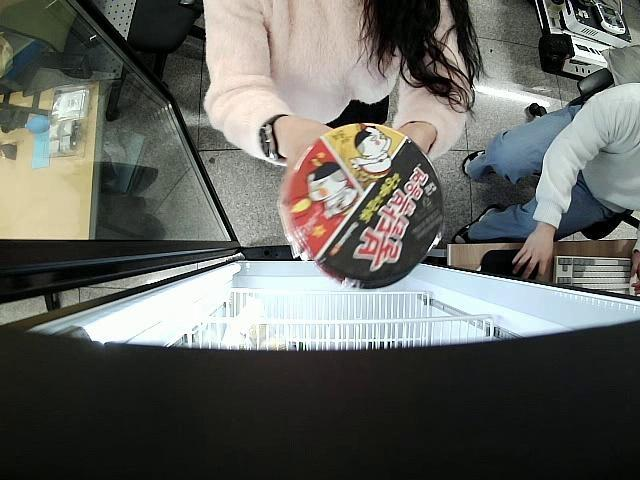07_buldak_L: (286, 125, 444, 290)
